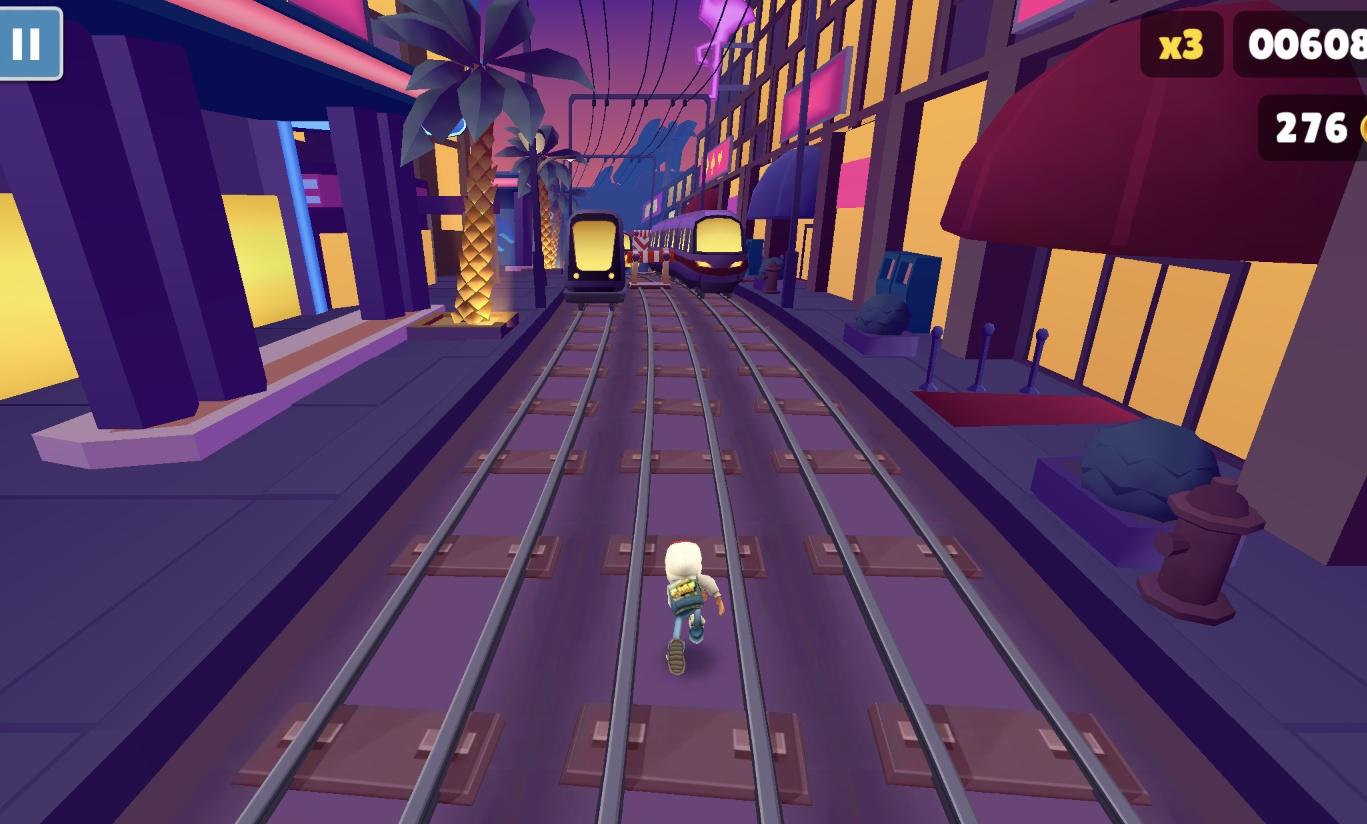overhead_barrier: (628, 229, 674, 292)
train: (642, 209, 753, 295), (560, 211, 631, 307)
